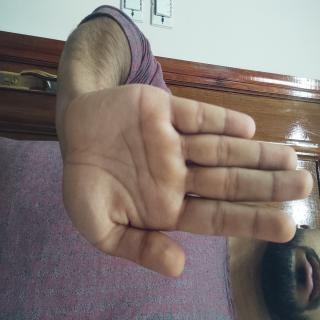SEEN: (56, 4, 209, 320)
